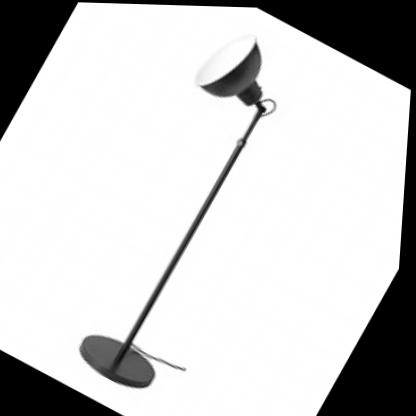Lamp: (36, 6, 337, 409)
